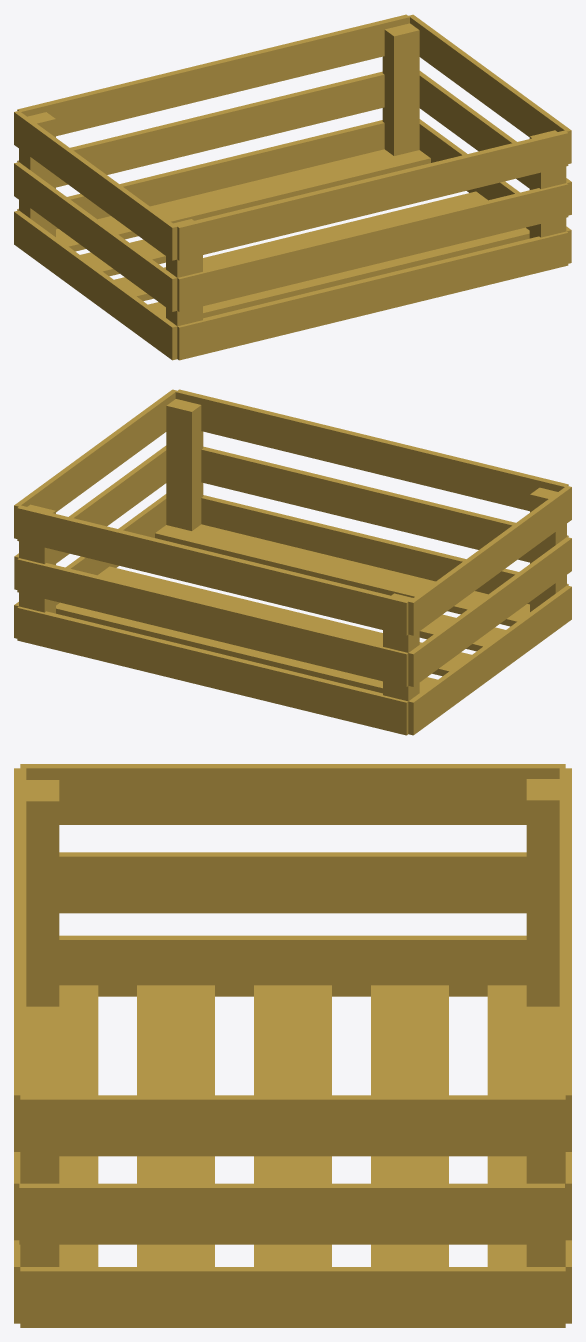
3 renders of one model, top to bottom at view 1: azimuth 30°, elevation 25°; view 2: azimuth 150°, elevation 25°; view 3: azimuth 270°, elevation 25°, orthographic. The views are drawn at different scales.
Parts seen in each view (by area): view 1: Box; view 2: Box; view 3: Box.
Boxes of the visible parts, <box> form: Box: <box>14,14,571,360</box>; Box: <box>14,389,571,735</box>; Box: <box>14,764,571,1327</box>.
Bounding box in the file's own units: 0.5904 × 0.1872 × 0.4149.
